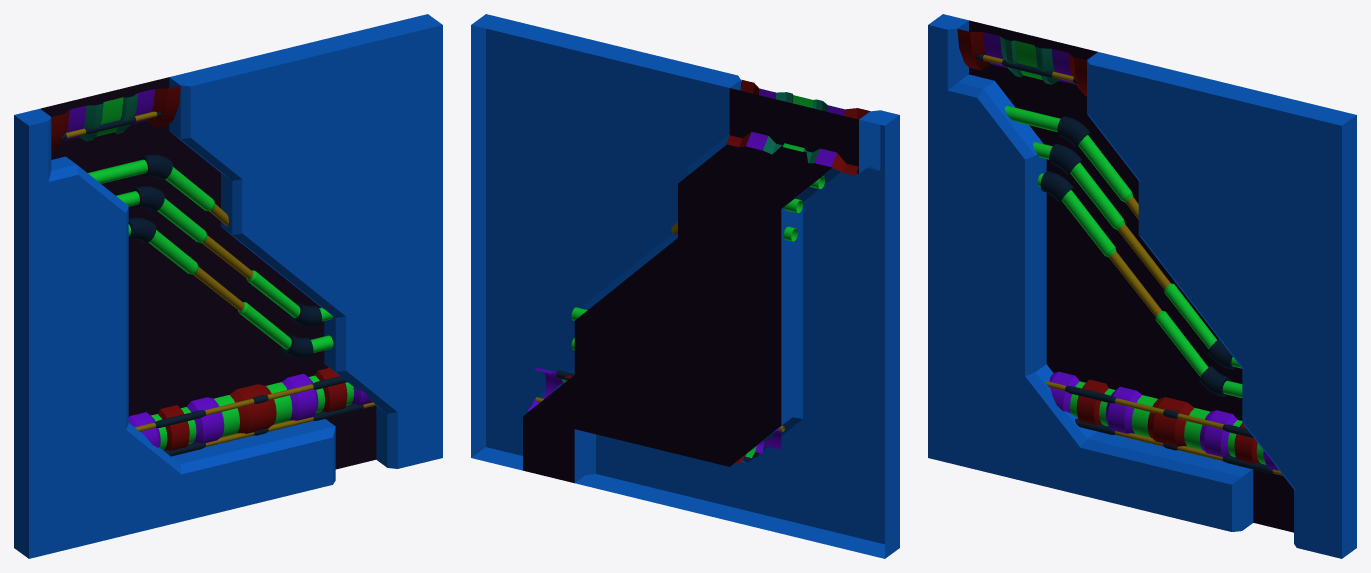
Rendered from OBJ_6_Mur_Sym.fbx.
3 views of the same model, side by side, from view 1: azimuth 30°, elevation 25°; view 2: azimuth 150°, elevation 25°; view 3: azimuth 330°, elevation 25° (orthographic).
Visible parts, largest first — view 1: OBJ_6_Mur_Sym; view 2: OBJ_6_Mur_Sym; view 3: OBJ_6_Mur_Sym.
Boxes of the visible parts, x1,y1,x2,y2 form: OBJ_6_Mur_Sym: (14, 14, 442, 558); OBJ_6_Mur_Sym: (471, 14, 899, 558); OBJ_6_Mur_Sym: (928, 14, 1356, 558).
Size of the model in its own units: 16 by 16 by 1.39.
